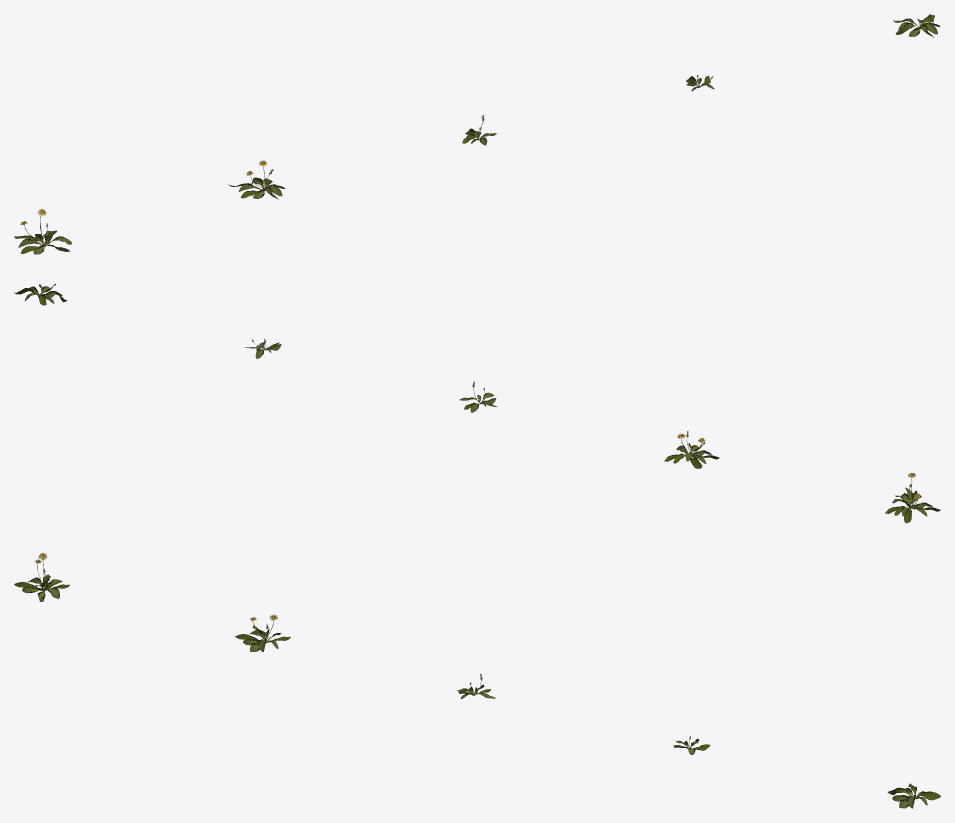
The model's file is dandelion_01.glb.
The picture shows the model from 3 angles, top to bottom: view 1: azimuth 30°, elevation 25°; view 2: azimuth 150°, elevation 25°; view 3: azimuth 330°, elevation 25°; orthographic projection.
Visible parts, largest first — view 1: dandelion_01_a_LOD0, dandelion_01_b_LOD0, dandelion_01_e_LOD0; view 2: dandelion_01_a_LOD0, dandelion_01_b_LOD0; view 3: dandelion_01_a_LOD0, dandelion_01_b_LOD0, dandelion_01_e_LOD0.
Boxes of the visible parts, bbox=[...] form: dandelion_01_a_LOD0: bbox=[14, 208, 71, 254]; dandelion_01_b_LOD0: bbox=[228, 160, 285, 199]; dandelion_01_e_LOD0: bbox=[893, 14, 940, 37]; dandelion_01_a_LOD0: bbox=[885, 473, 940, 523]; dandelion_01_b_LOD0: bbox=[664, 431, 719, 468]; dandelion_01_a_LOD0: bbox=[14, 552, 69, 601]; dandelion_01_b_LOD0: bbox=[235, 614, 290, 651]; dandelion_01_e_LOD0: bbox=[887, 783, 940, 808].
Bounding box in the file's own units: 4.22 × 0.1643 × 0.2574.
Materials: 1 (1 with a texture image).
